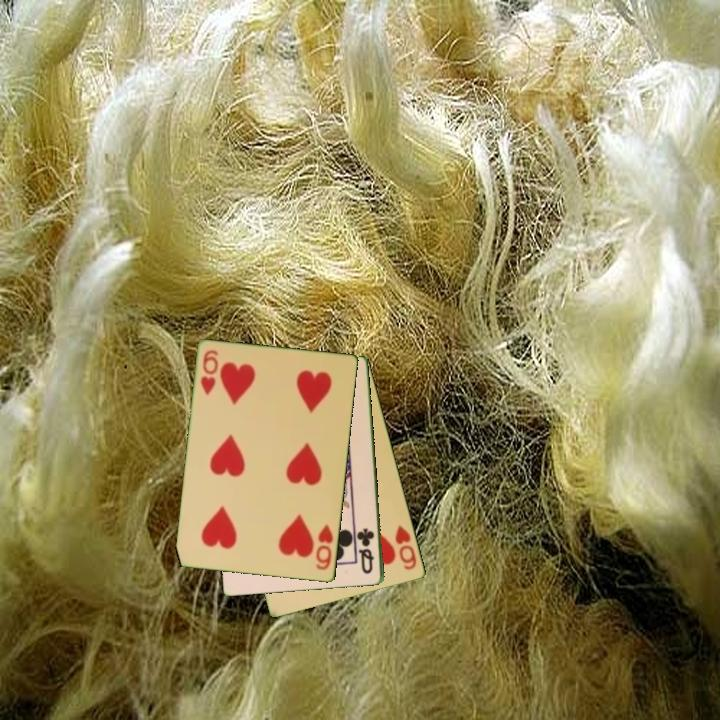6h: (392, 522, 420, 573), (197, 347, 221, 398), (313, 521, 336, 573)
Qc: (354, 525, 378, 577)
